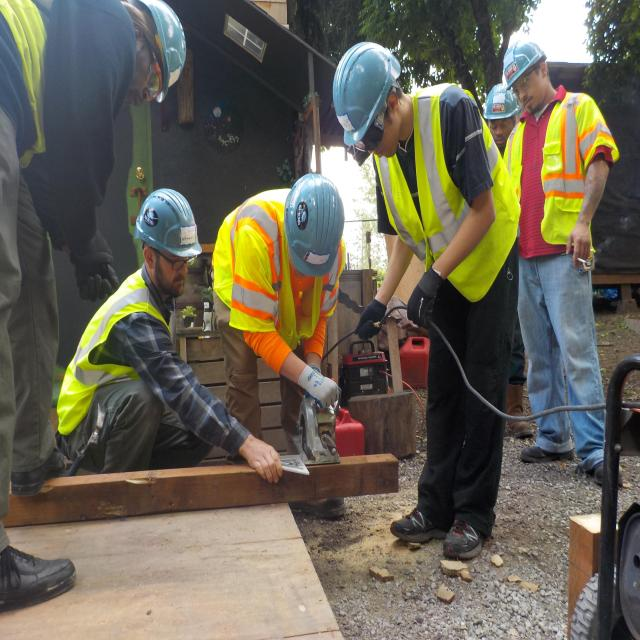Reflective-Jacket: (380, 88, 520, 300), (213, 193, 344, 341), (55, 276, 167, 430), (524, 90, 618, 247), (1, 1, 50, 166)
Safety-Helmet: (274, 171, 343, 285), (332, 38, 402, 144), (132, 185, 201, 259), (502, 38, 548, 87), (481, 80, 520, 120)
